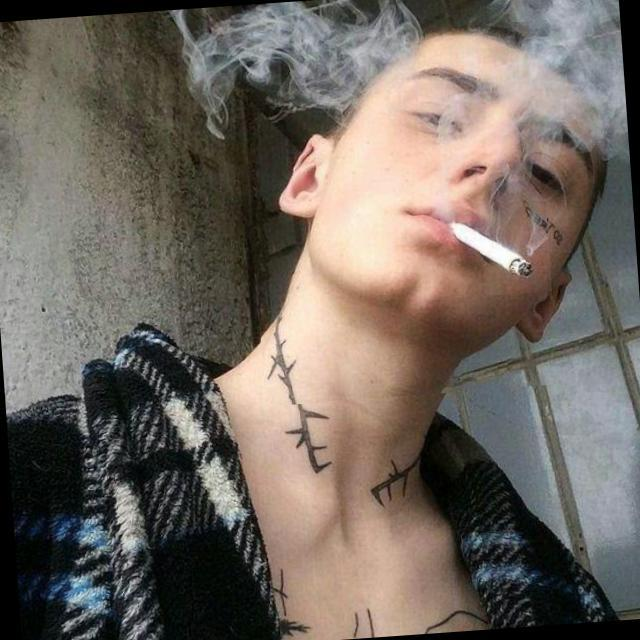cigarette: (420, 196, 552, 300)
